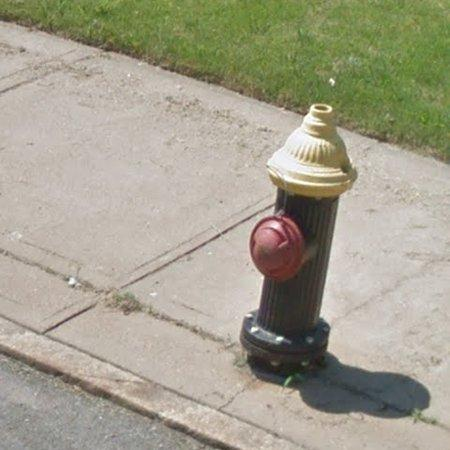a fire hydrant: (241, 104, 358, 369)
